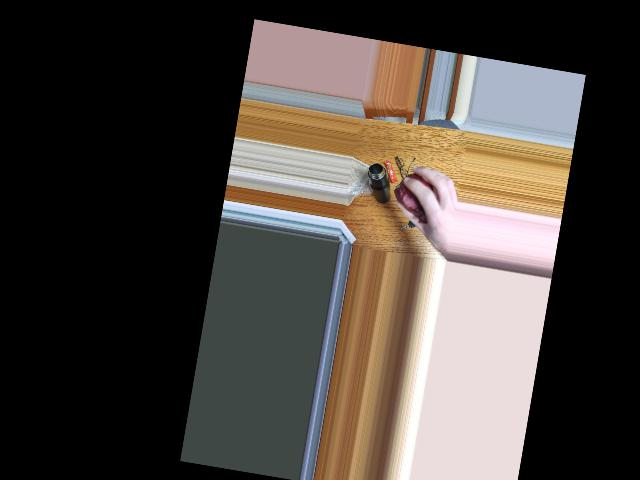onion: (395, 169, 435, 212)
